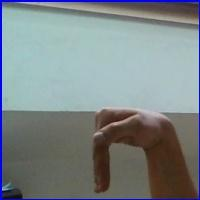del: (88, 100, 178, 194)
